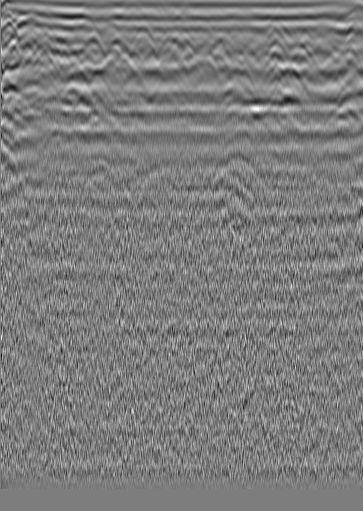가스: (77, 159, 112, 189)
상수: (295, 26, 315, 46)
오수: (23, 29, 45, 59)
우수: (176, 32, 196, 52)
